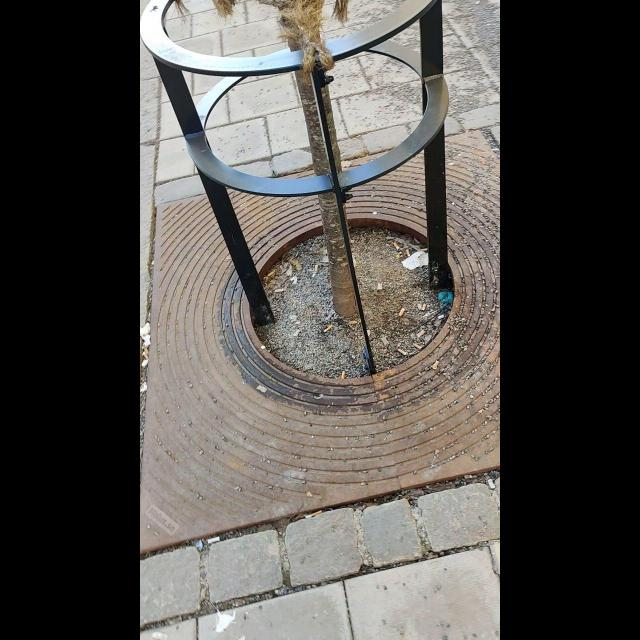cigarette: (304, 509, 322, 521), (208, 535, 220, 547), (322, 324, 333, 334), (289, 275, 298, 286), (380, 337, 390, 345), (398, 348, 408, 356), (376, 283, 384, 293), (397, 308, 405, 318), (258, 383, 266, 392), (432, 360, 439, 370), (394, 243, 401, 252), (350, 319, 359, 326), (405, 248, 411, 258), (341, 370, 346, 380), (418, 330, 424, 338), (267, 270, 273, 278), (411, 342, 420, 347), (422, 302, 426, 313), (274, 288, 284, 292), (143, 351, 147, 360), (146, 345, 150, 353), (315, 266, 317, 272)
